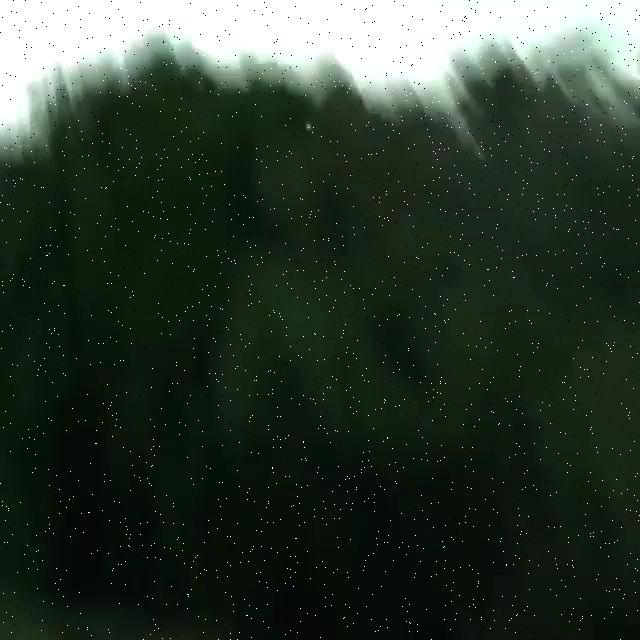golf ball: (305, 122, 314, 131)
